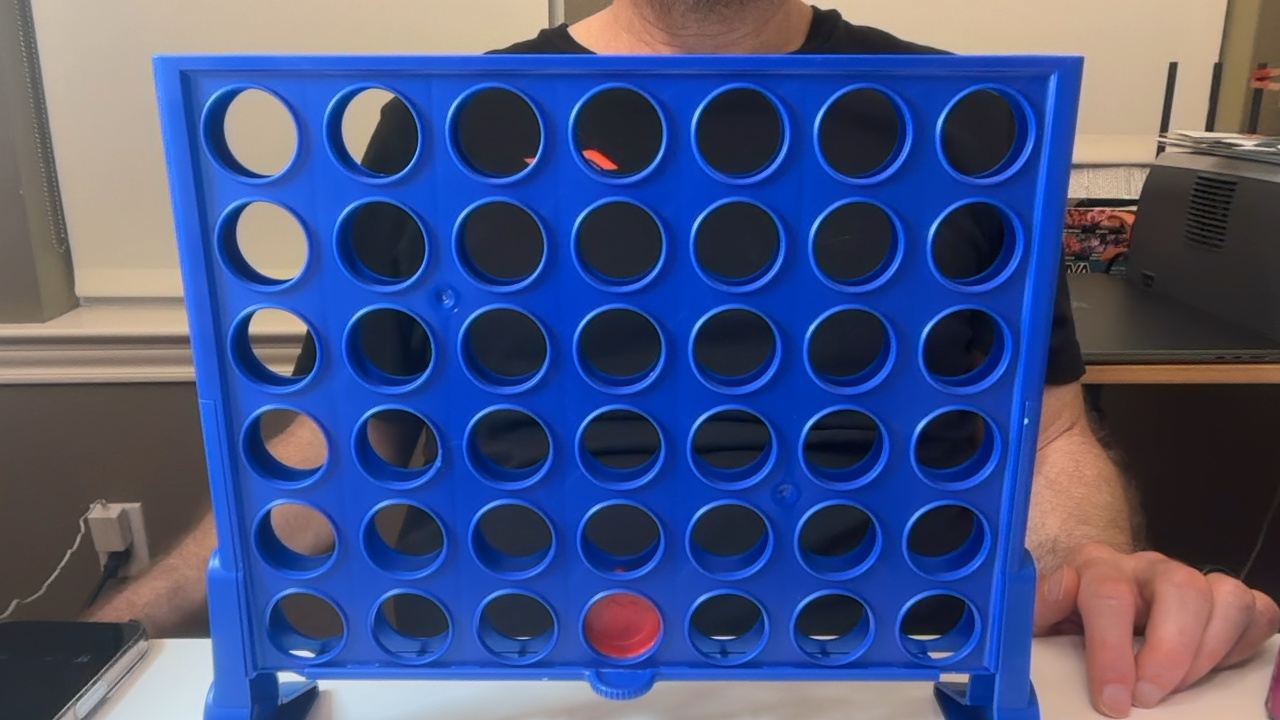red piece: (584, 592, 661, 658)
